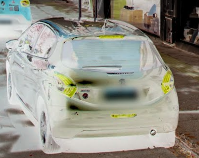car: (4, 17, 181, 153)
